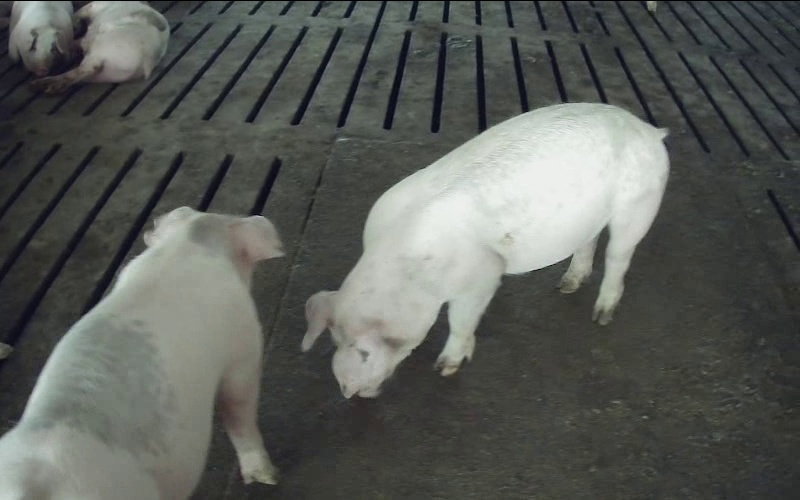pig: (302, 105, 668, 396), (0, 207, 283, 499), (32, 2, 169, 92), (9, 2, 73, 76)
